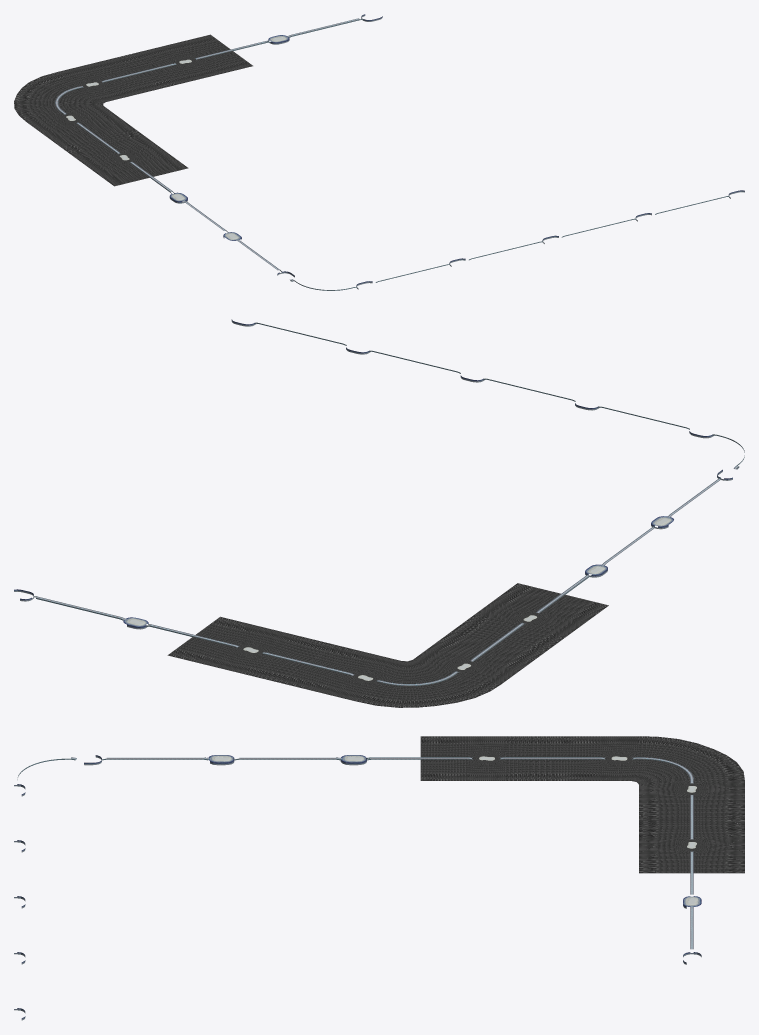
Rendered from Egg_treat3.obj.
3 renders of one model, top to bottom at view 1: azimuth 30°, elevation 25°; view 2: azimuth 150°, elevation 25°; view 3: azimuth 270°, elevation 25°, orthographic. The views are drawn at different scales.
Parts seen in each view (by area): view 1: Object_2, obj2, obj3; view 2: Object_2, obj2, obj3; view 3: Object_2, obj2, obj3.
Part boxes in pixels (x1=…): Object_2: x1=14, y1=34, x2=252, y2=186; obj2: x1=55, y1=14, x2=744, y2=290; obj3: x1=55, y1=59, x2=293, y2=280; Object_2: x1=167, y1=583, x2=608, y2=707; obj2: x1=14, y1=319, x2=744, y2=685; obj3: x1=243, y1=466, x2=738, y2=685; Object_2: x1=420, y1=736, x2=744, y2=873; obj2: x1=14, y1=755, x2=701, y2=1020; obj3: x1=71, y1=756, x2=696, y2=848.
Size of the model in its own units: 25190 by 130 by 27585.
